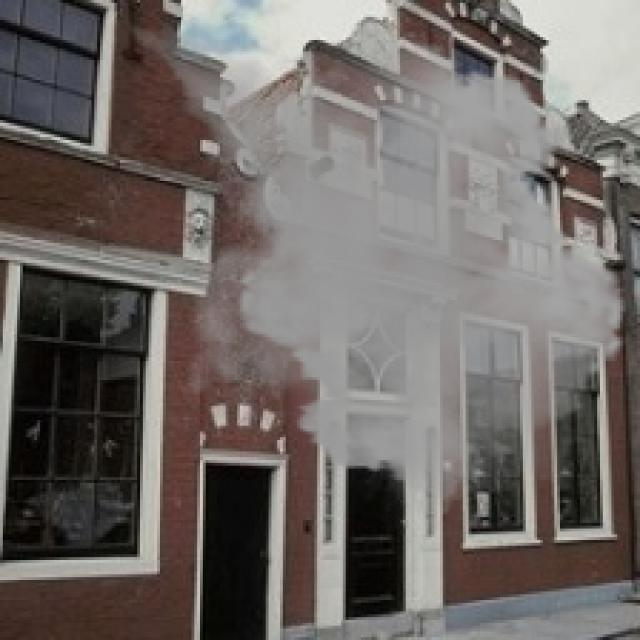smoke: (100, 11, 637, 532)
